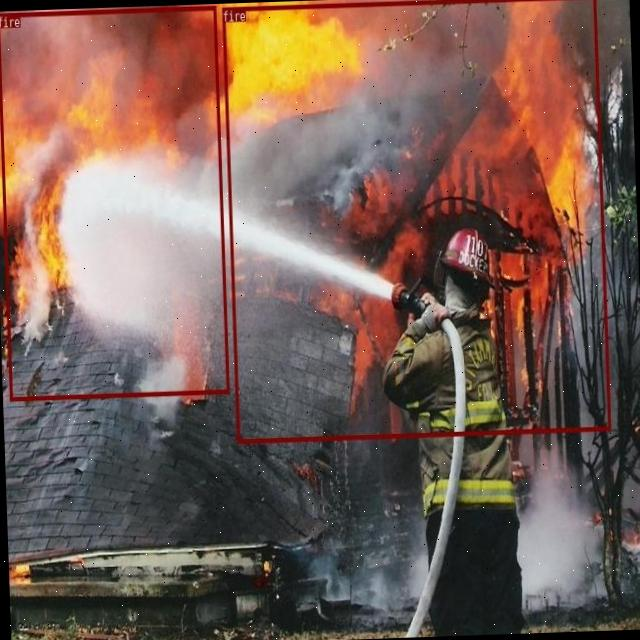fire: (221, 0, 610, 442), (0, 4, 228, 399)
